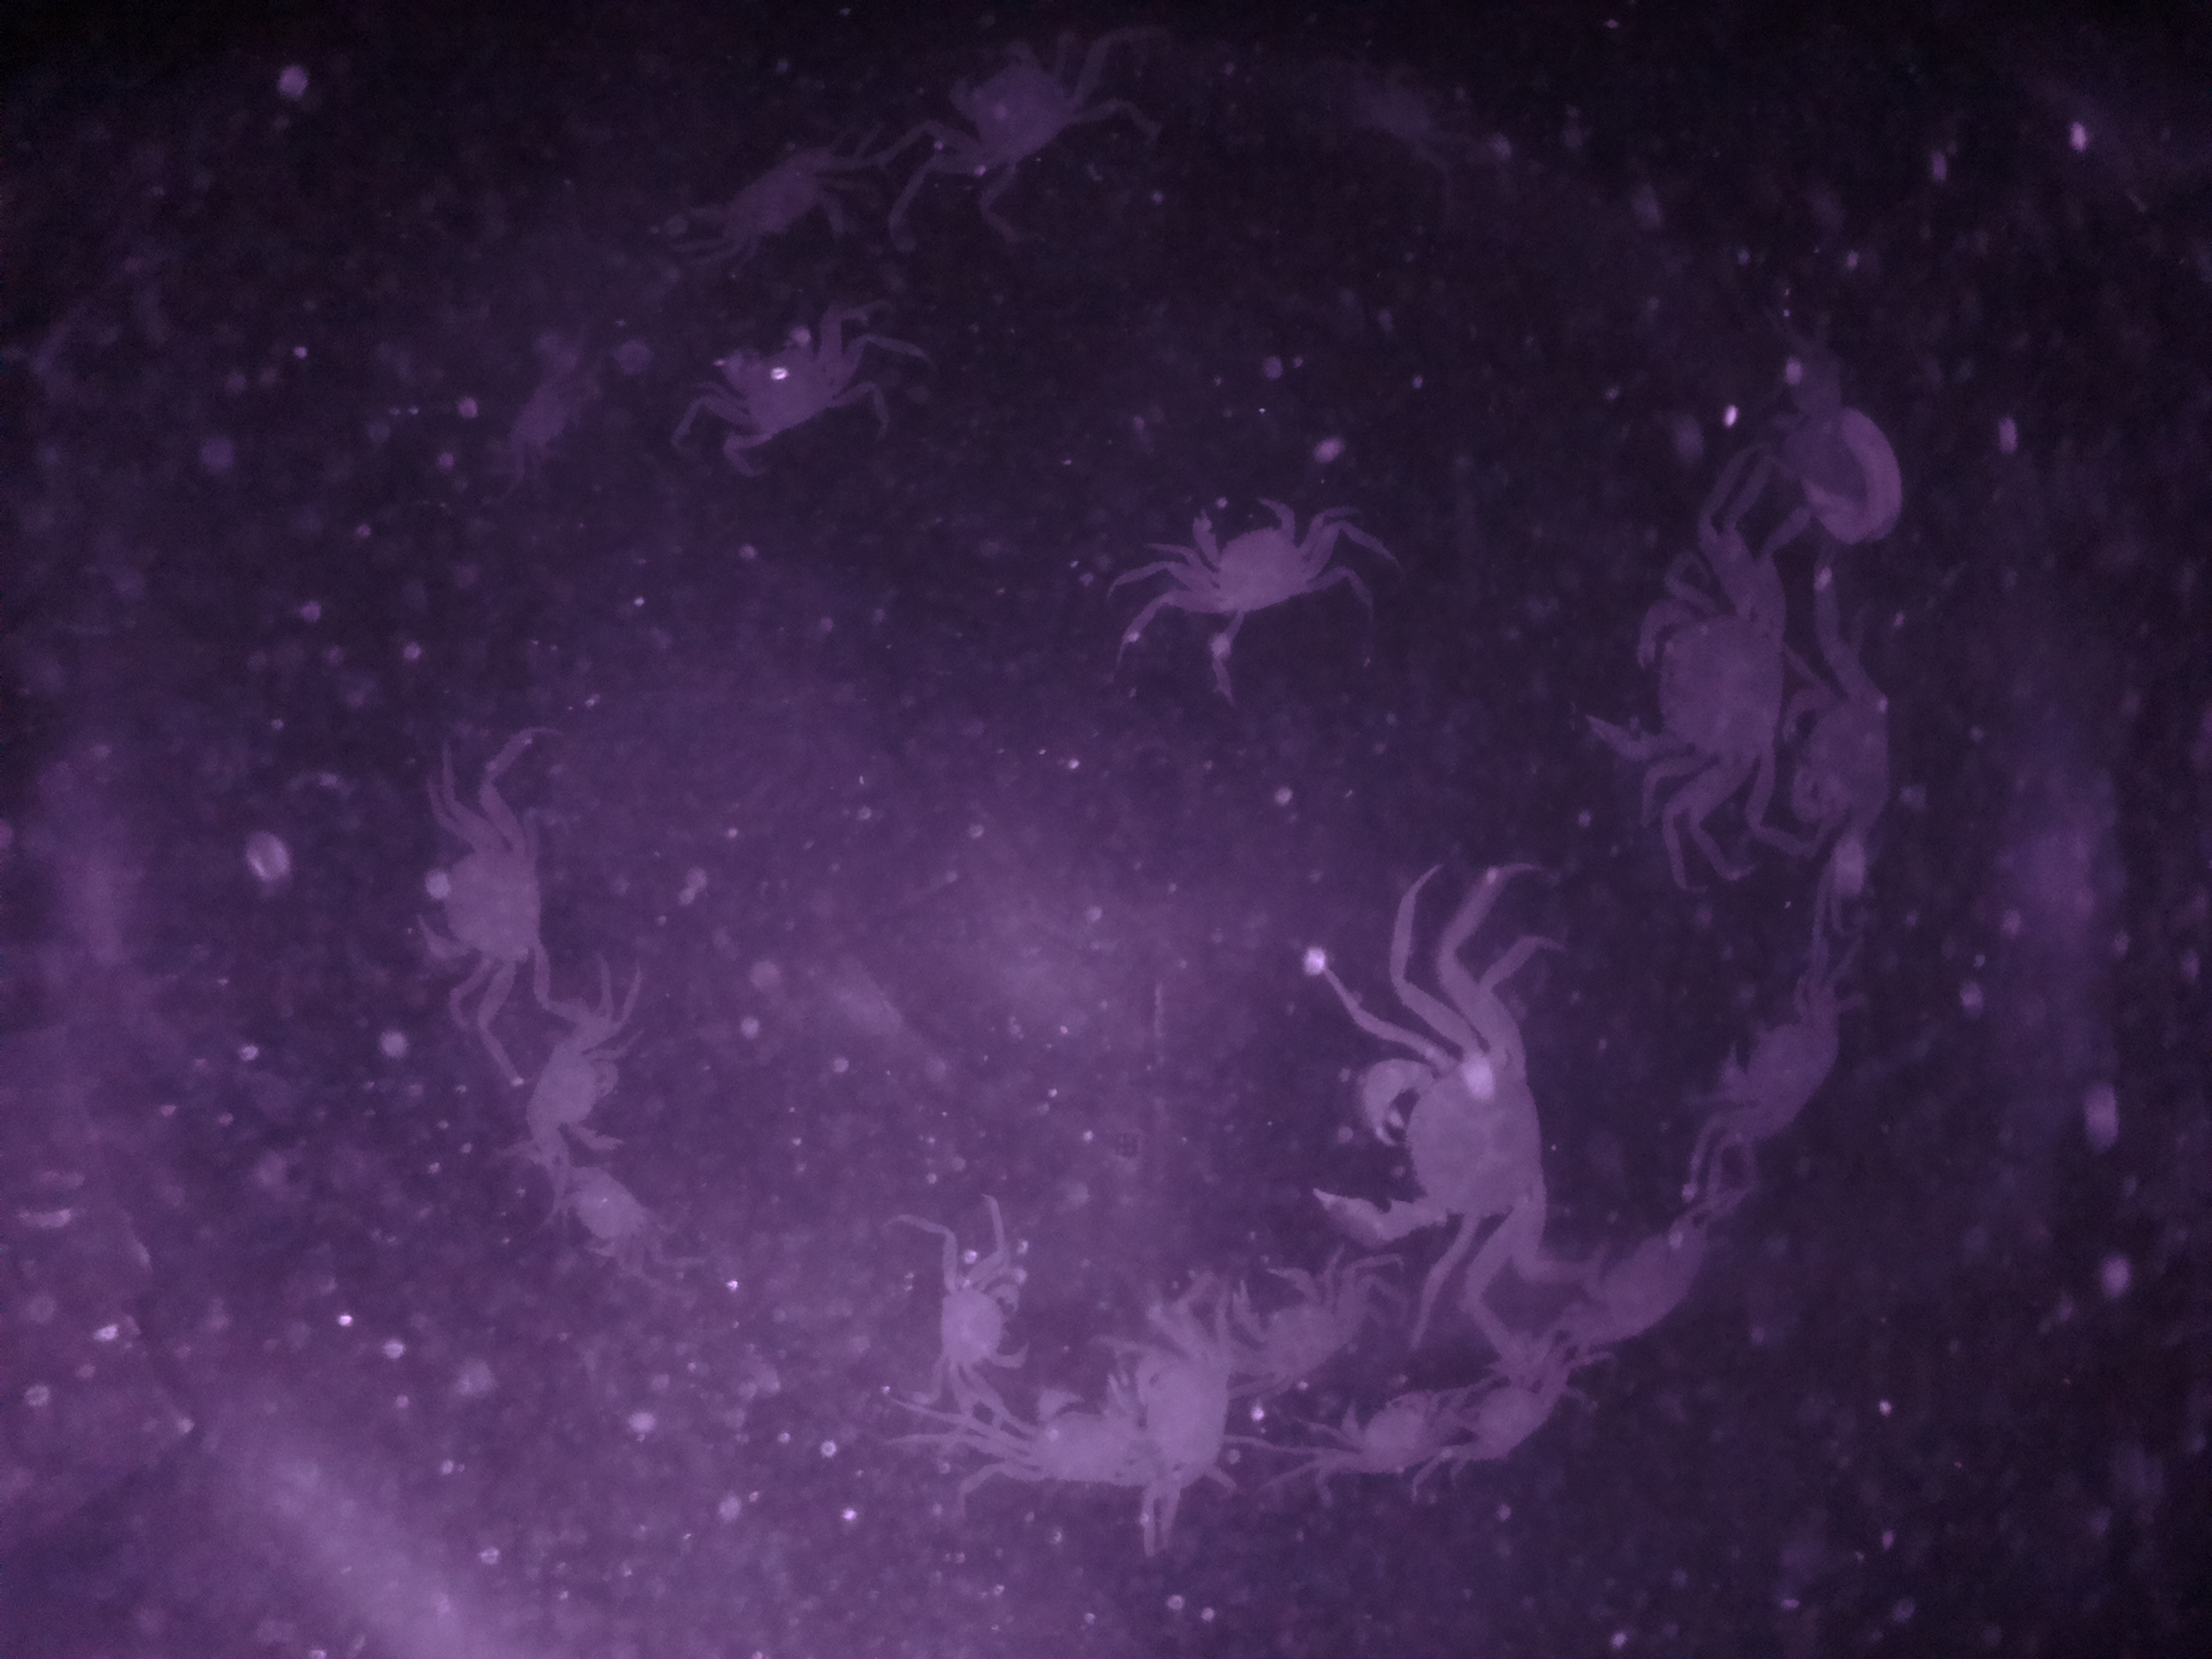Crab: (1287, 1007, 1569, 1255), (1575, 577, 1789, 805), (1686, 971, 1853, 1166), (918, 19, 1101, 190), (402, 805, 561, 995), (1784, 660, 1912, 873), (1163, 486, 1339, 638), (711, 301, 850, 455), (503, 1023, 641, 1175), (1224, 1260, 1362, 1403), (1322, 1384, 1458, 1499), (909, 1262, 1036, 1384)
